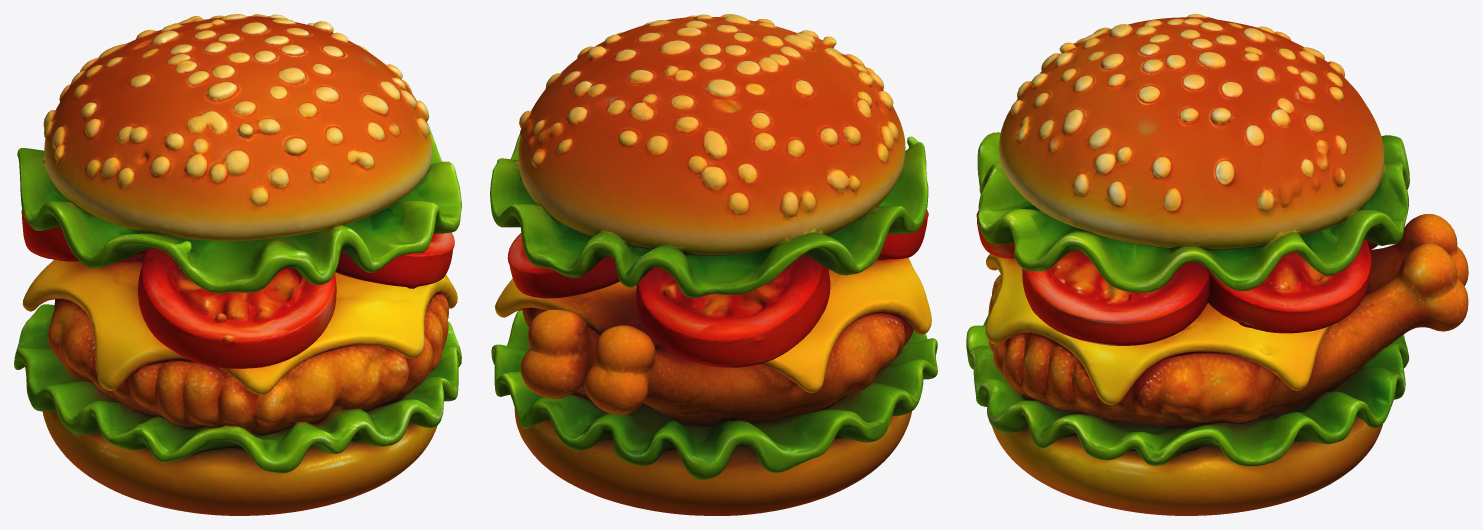
File: tripo_convert_83c76e36-d026-4888-a037-77bd03f15f9c.fbx
The picture shows the model from 3 angles, left to right: view 1: azimuth 30°, elevation 25°; view 2: azimuth 150°, elevation 25°; view 3: azimuth 270°, elevation 25°; orthographic projection.
Parts seen in each view (by area): view 1: tripo_node_83c76e36; view 2: tripo_node_83c76e36; view 3: tripo_node_83c76e36.
Boxes of the visible parts, x1=… form: tripo_node_83c76e36: x1=14, y1=14, x2=461, y2=515; tripo_node_83c76e36: x1=490, y1=14, x2=937, y2=515; tripo_node_83c76e36: x1=966, y1=14, x2=1468, y2=515.
Size of the model in its own units: 0.8701 by 0.9642 by 1.
